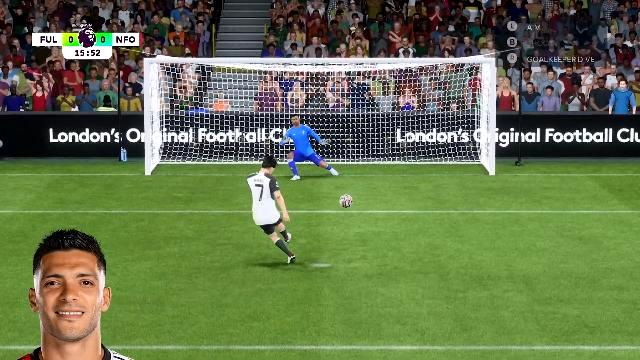bottom-left: (150, 117, 262, 175)
bottom-right: (375, 120, 491, 176)
center-down: (262, 118, 372, 178)
center-up: (264, 64, 372, 114)
football: (341, 194, 353, 206)
goalkeeper: (276, 115, 338, 178)
player: (242, 157, 302, 265)
top-left: (148, 62, 262, 116)
top-right: (376, 63, 492, 118)
